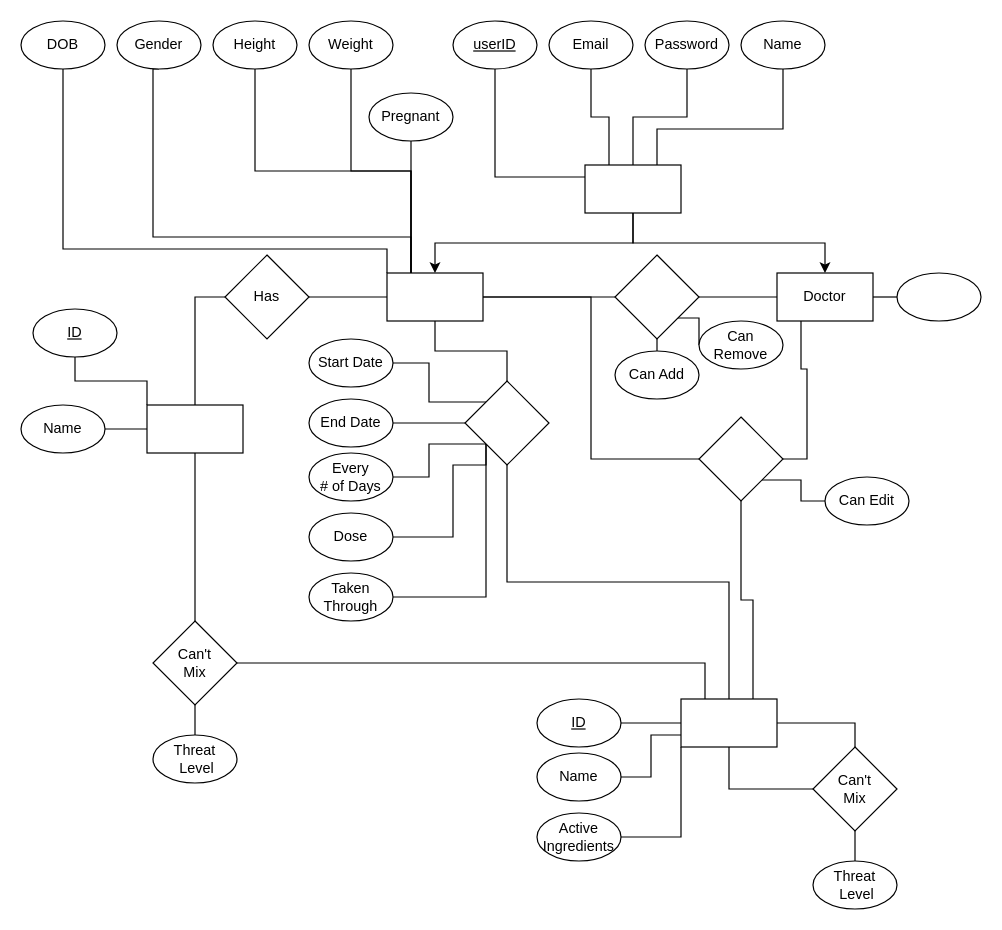
The diagram is 1002 pixels wide and 930 high, and some of its shapes have lost their labels. Each missing label, with the centre of its shape:
Allergy: the point at 194,428
Can See: the point at 740,458
Drug: the point at 728,722
Goes To: the point at 656,296
Patient: the point at 434,296
Profession: the point at 938,296
Takes: the point at 506,422
User: the point at 632,188
